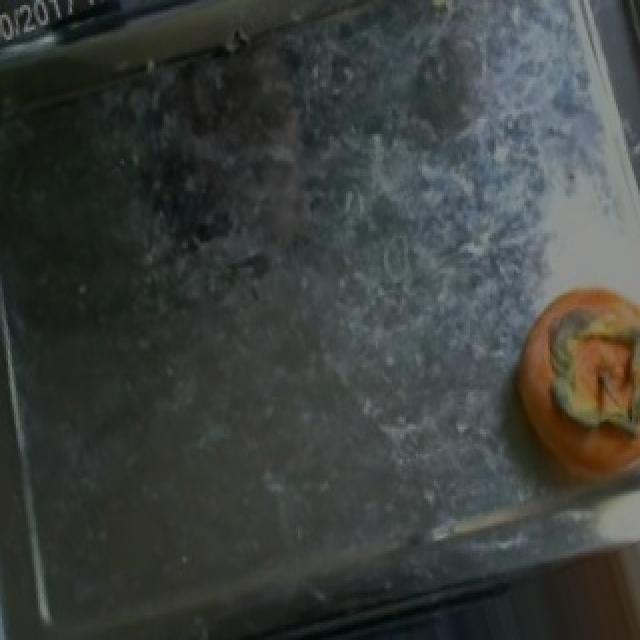Fruit: (492, 266, 640, 462)
